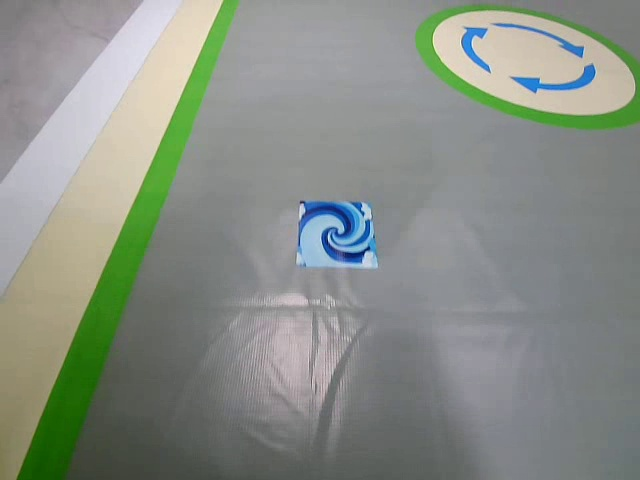circle: (293, 196, 387, 277)
